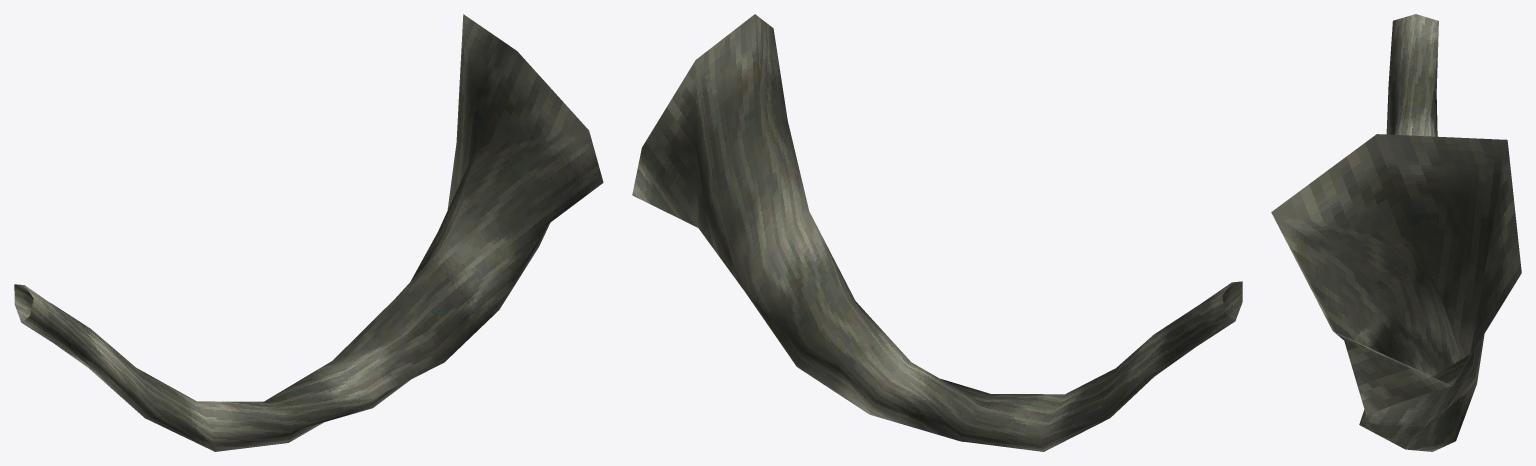
The model's file is INST_TROLLHOLE_ROOTA.fbx.
The picture shows the model from 3 angles, left to right: view 1: azimuth 30°, elevation 25°; view 2: azimuth 150°, elevation 25°; view 3: azimuth 270°, elevation 25°; orthographic projection. The views are drawn at different scales.
Parts seen in each view (by area): view 1: INST_TROLLHOLE_ROOTA; view 2: INST_TROLLHOLE_ROOTA; view 3: INST_TROLLHOLE_ROOTA.
Part boxes in pixels (box(x1,y1,x2,y2)): INST_TROLLHOLE_ROOTA: box(14, 14, 603, 451); INST_TROLLHOLE_ROOTA: box(632, 14, 1242, 451); INST_TROLLHOLE_ROOTA: box(1271, 14, 1521, 451).
Size of the model in its own units: 49710 by 29373 by 16225.
1 material, 1 textured.
